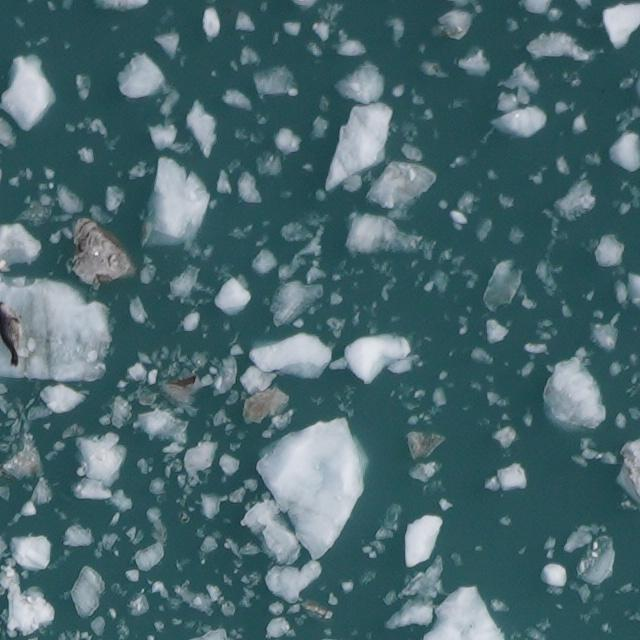seal: (0, 300, 20, 367)
